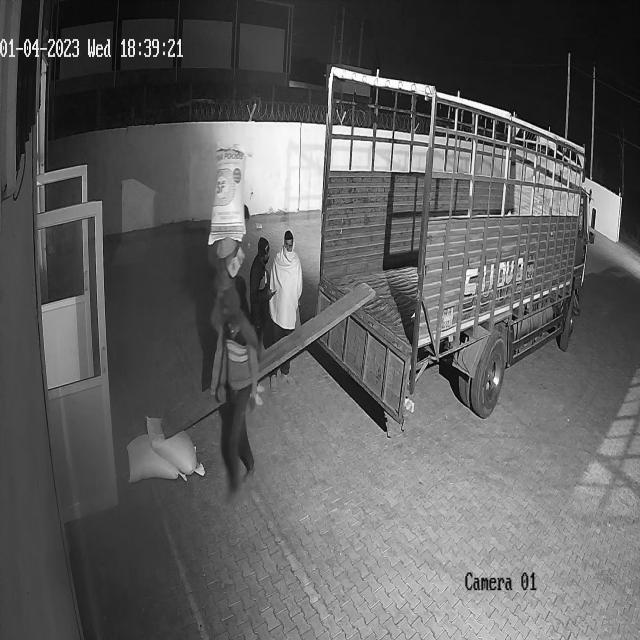sack: (208, 144, 248, 245), (146, 415, 204, 475), (127, 432, 185, 480)
